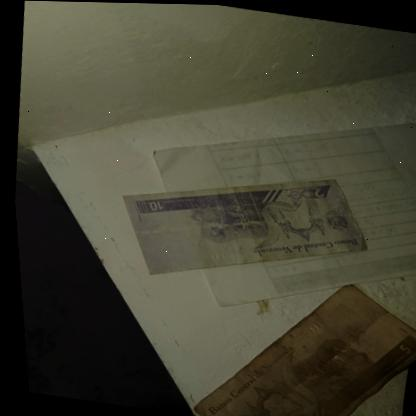five-back-vef: (176, 260, 416, 416)
ten-back-vef: (106, 147, 375, 305)
